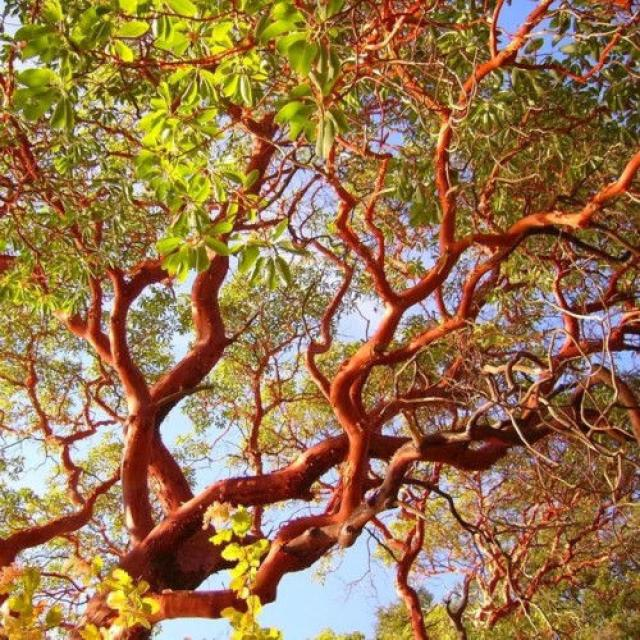Arbutus menziesii: (8, 6, 638, 640)
